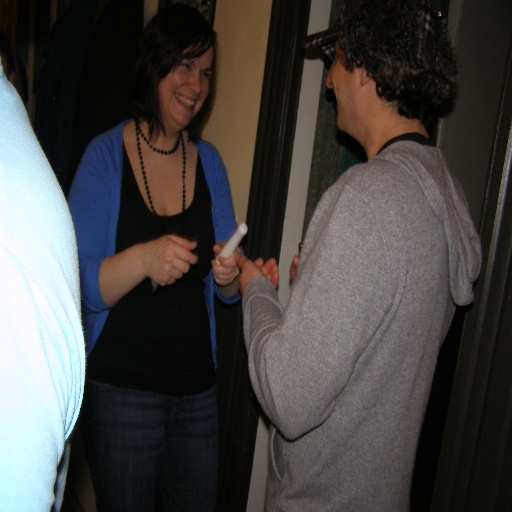hand: (144, 231, 199, 288), (232, 252, 278, 295), (211, 239, 241, 283), (288, 253, 299, 284)
